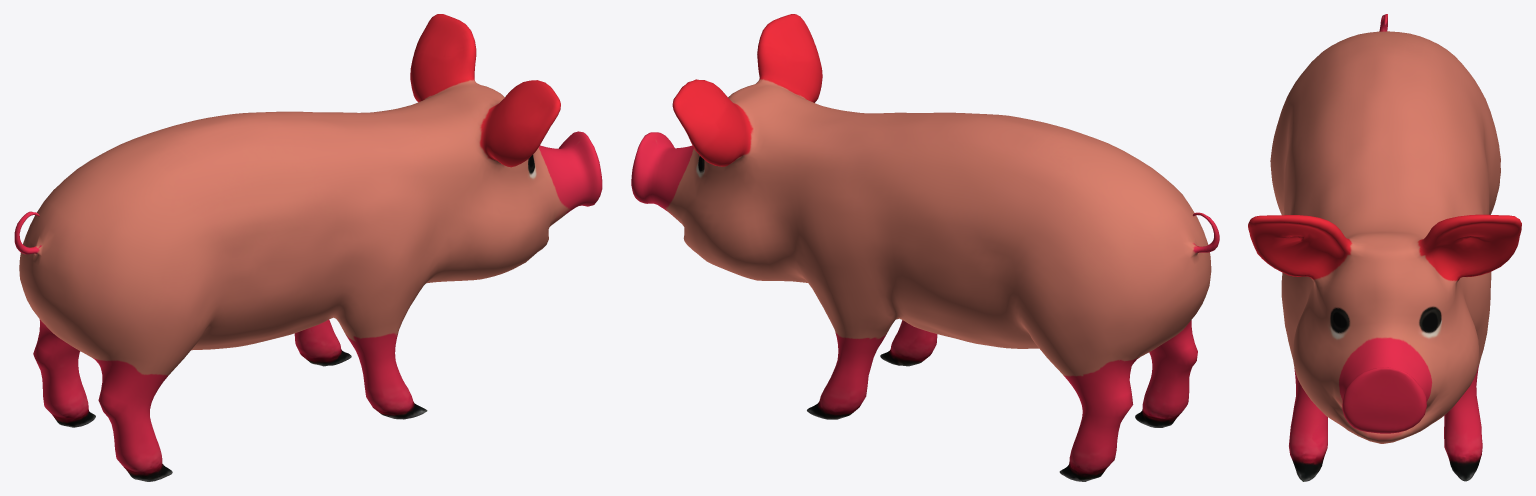
Rendered from pig.glb.
3 renders of one model, left to right at view 1: azimuth 30°, elevation 25°; view 2: azimuth 150°, elevation 25°; view 3: azimuth 270°, elevation 25°, orthographic. The views are drawn at different scales.
Parts seen in each view (by area): view 1: Mesh; view 2: Mesh; view 3: Mesh.
Boxes of the visible parts, <box> form: Mesh: <box>14,14,602,481</box>; Mesh: <box>631,14,1219,481</box>; Mesh: <box>1248,14,1521,481</box>.
Size of the model in its own units: 0.9592 by 0.487 by 0.3687.
Materials: 1 (1 with a texture image).
